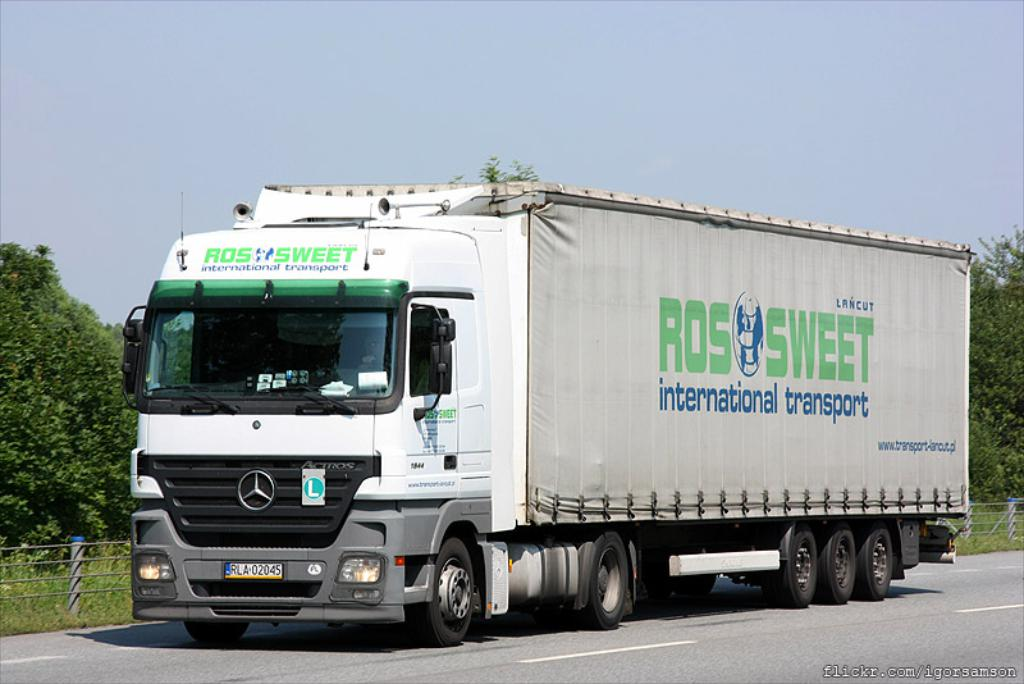truck: (107, 168, 997, 654)
